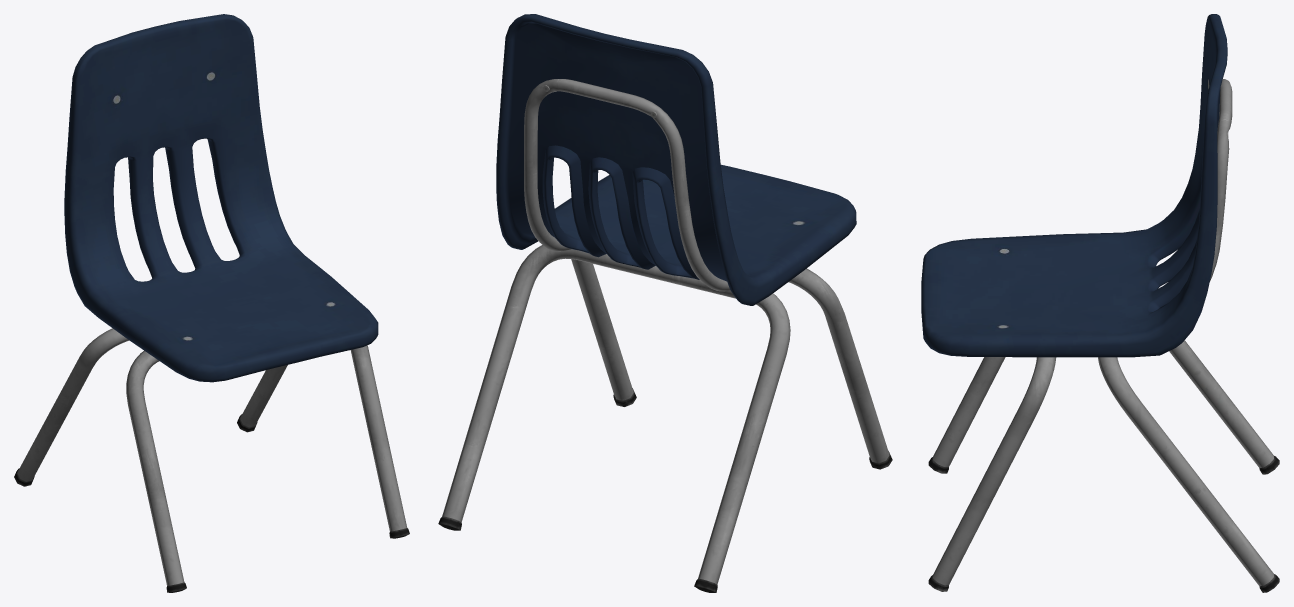
Rendered from School Chair1.gltf.
3 renders of one model, left to right at view 1: azimuth 30°, elevation 25°; view 2: azimuth 150°, elevation 25°; view 3: azimuth 270°, elevation 25°, orthographic. The views are drawn at different scales.
Visible parts, largest first — view 1: SchoolChair_01; view 2: SchoolChair_01; view 3: SchoolChair_01.
Part boxes in pixels (x1,y1,x2,y2): SchoolChair_01: (14,14,409,592); SchoolChair_01: (438,14,892,592); SchoolChair_01: (921,14,1279,592).
Size of the model in its own units: 0.5659 by 1.01 by 0.6753.
1 material, 1 textured.
